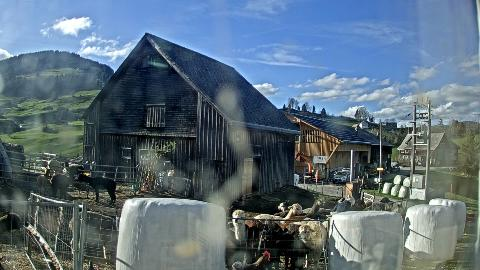car: (333, 170, 351, 184), (390, 166, 400, 174), (418, 160, 426, 166)
sheep: (69, 210, 119, 266), (252, 202, 304, 228), (78, 173, 118, 205), (301, 218, 325, 268), (274, 196, 326, 218), (228, 210, 248, 264), (244, 216, 264, 270), (280, 224, 300, 270), (264, 220, 282, 270), (52, 166, 78, 200), (0, 212, 24, 236), (36, 167, 52, 197), (65, 162, 84, 176), (48, 159, 64, 174), (278, 200, 294, 212), (380, 196, 388, 212), (356, 200, 366, 210), (366, 201, 374, 210), (388, 202, 394, 213)
